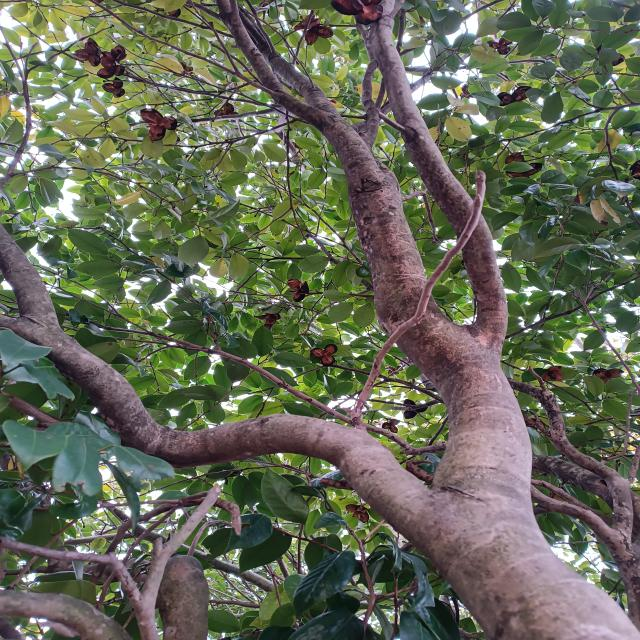Branch: (5, 317, 422, 532), (317, 115, 531, 499)
Twig: (369, 0, 507, 358), (219, 0, 338, 126), (0, 225, 63, 330), (358, 59, 380, 150)
